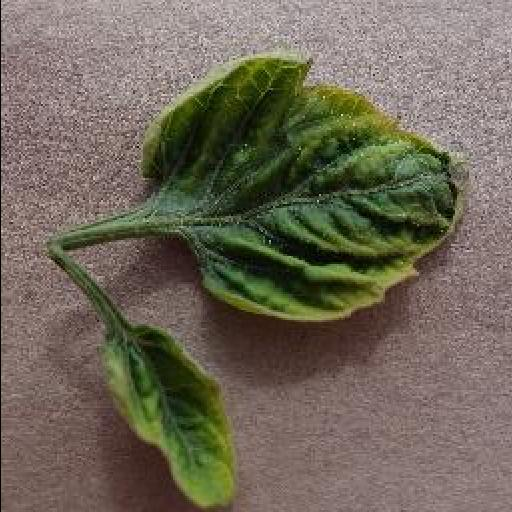disease_tomato: (129, 54, 479, 323), (100, 318, 242, 512)
